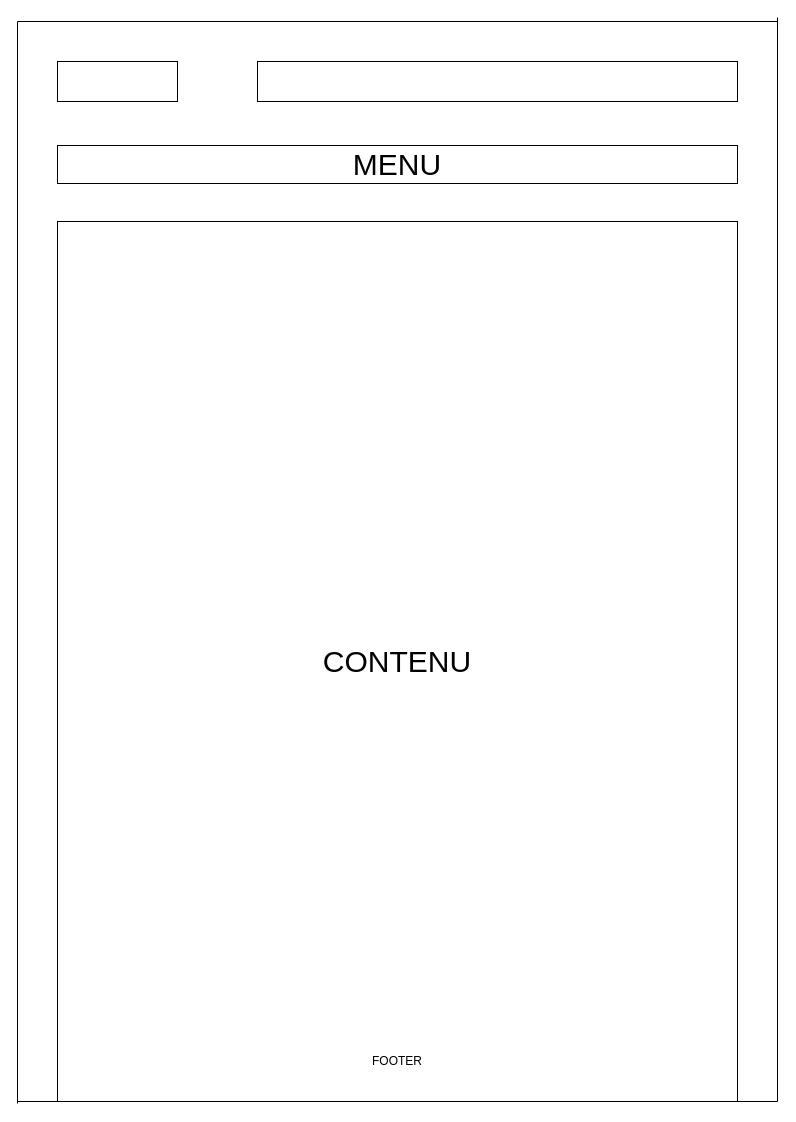
Image size: 796x1122. Some labels were removed from this diagram. The centre of each missing label's shape, as x and y in pixels:
"LOGO" belongs at pixel 117 81.
"RACCOURCIS" belongs at pixel 497 81.
